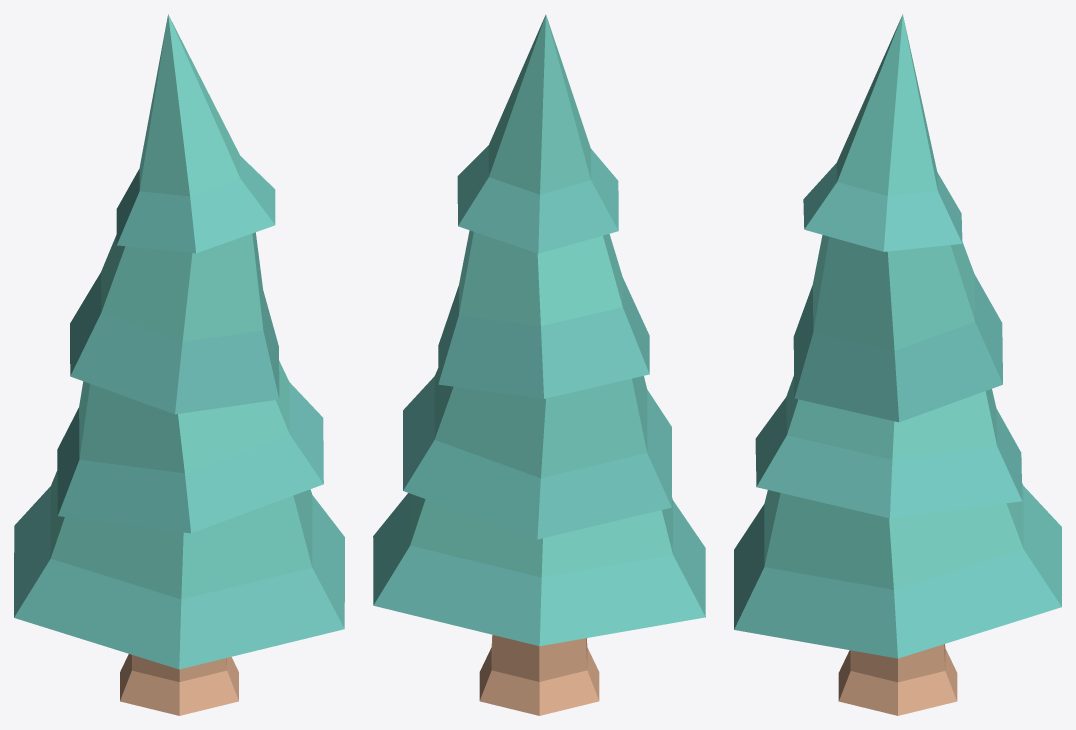
The model's file is pineCrooked.glb.
3 renders of one model, left to right at view 1: azimuth 30°, elevation 25°; view 2: azimuth 150°, elevation 25°; view 3: azimuth 270°, elevation 25°, orthographic.
Visible parts, largest first — view 1: pineCrooked; view 2: pineCrooked; view 3: pineCrooked.
Boxes of the visible parts, bbox=[...] form: pineCrooked: bbox=[14, 14, 344, 715]; pineCrooked: bbox=[373, 14, 705, 715]; pineCrooked: bbox=[734, 14, 1061, 715].
Bounding box in the file's own units: 1.18 × 2.29 × 1.02.
